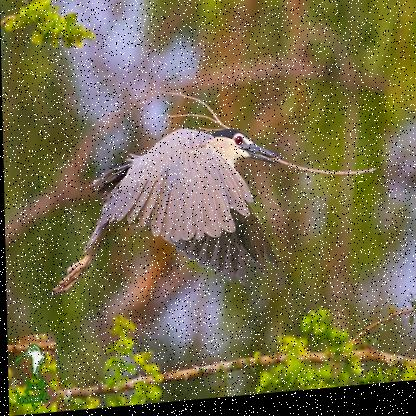Burung: (40, 124, 284, 303)
